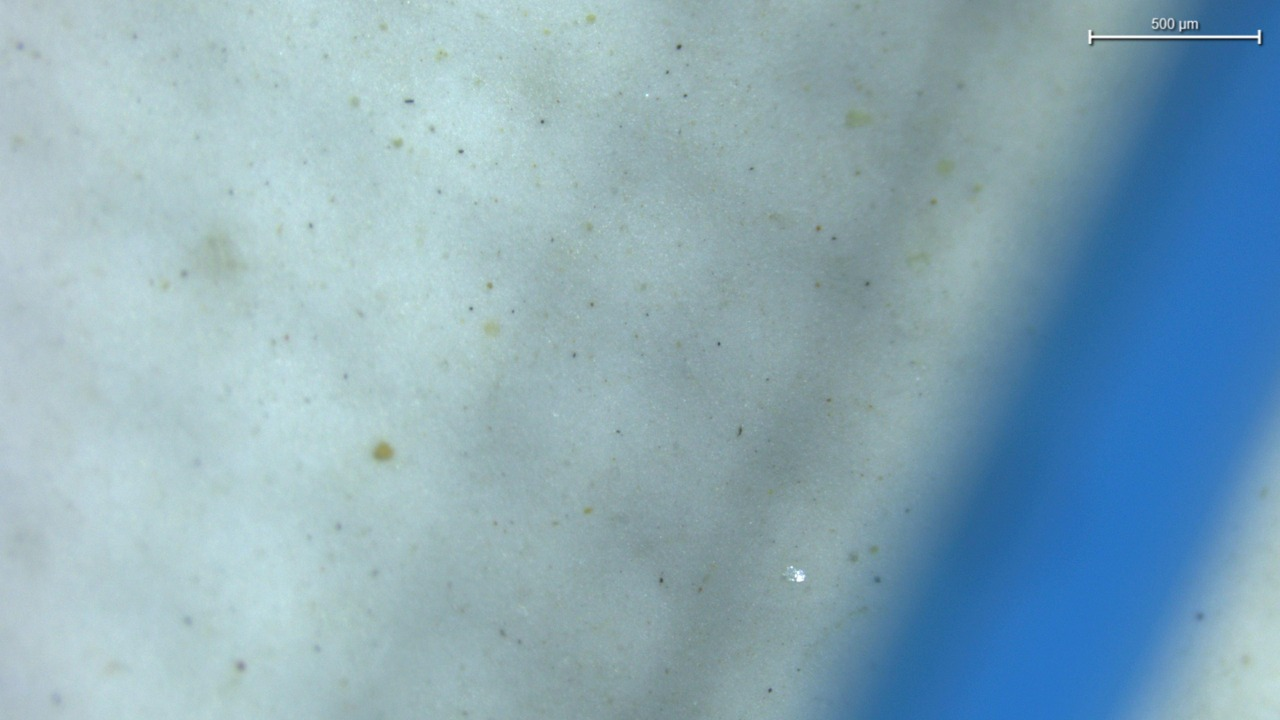microplastic_fragment: (782, 566, 806, 583)
